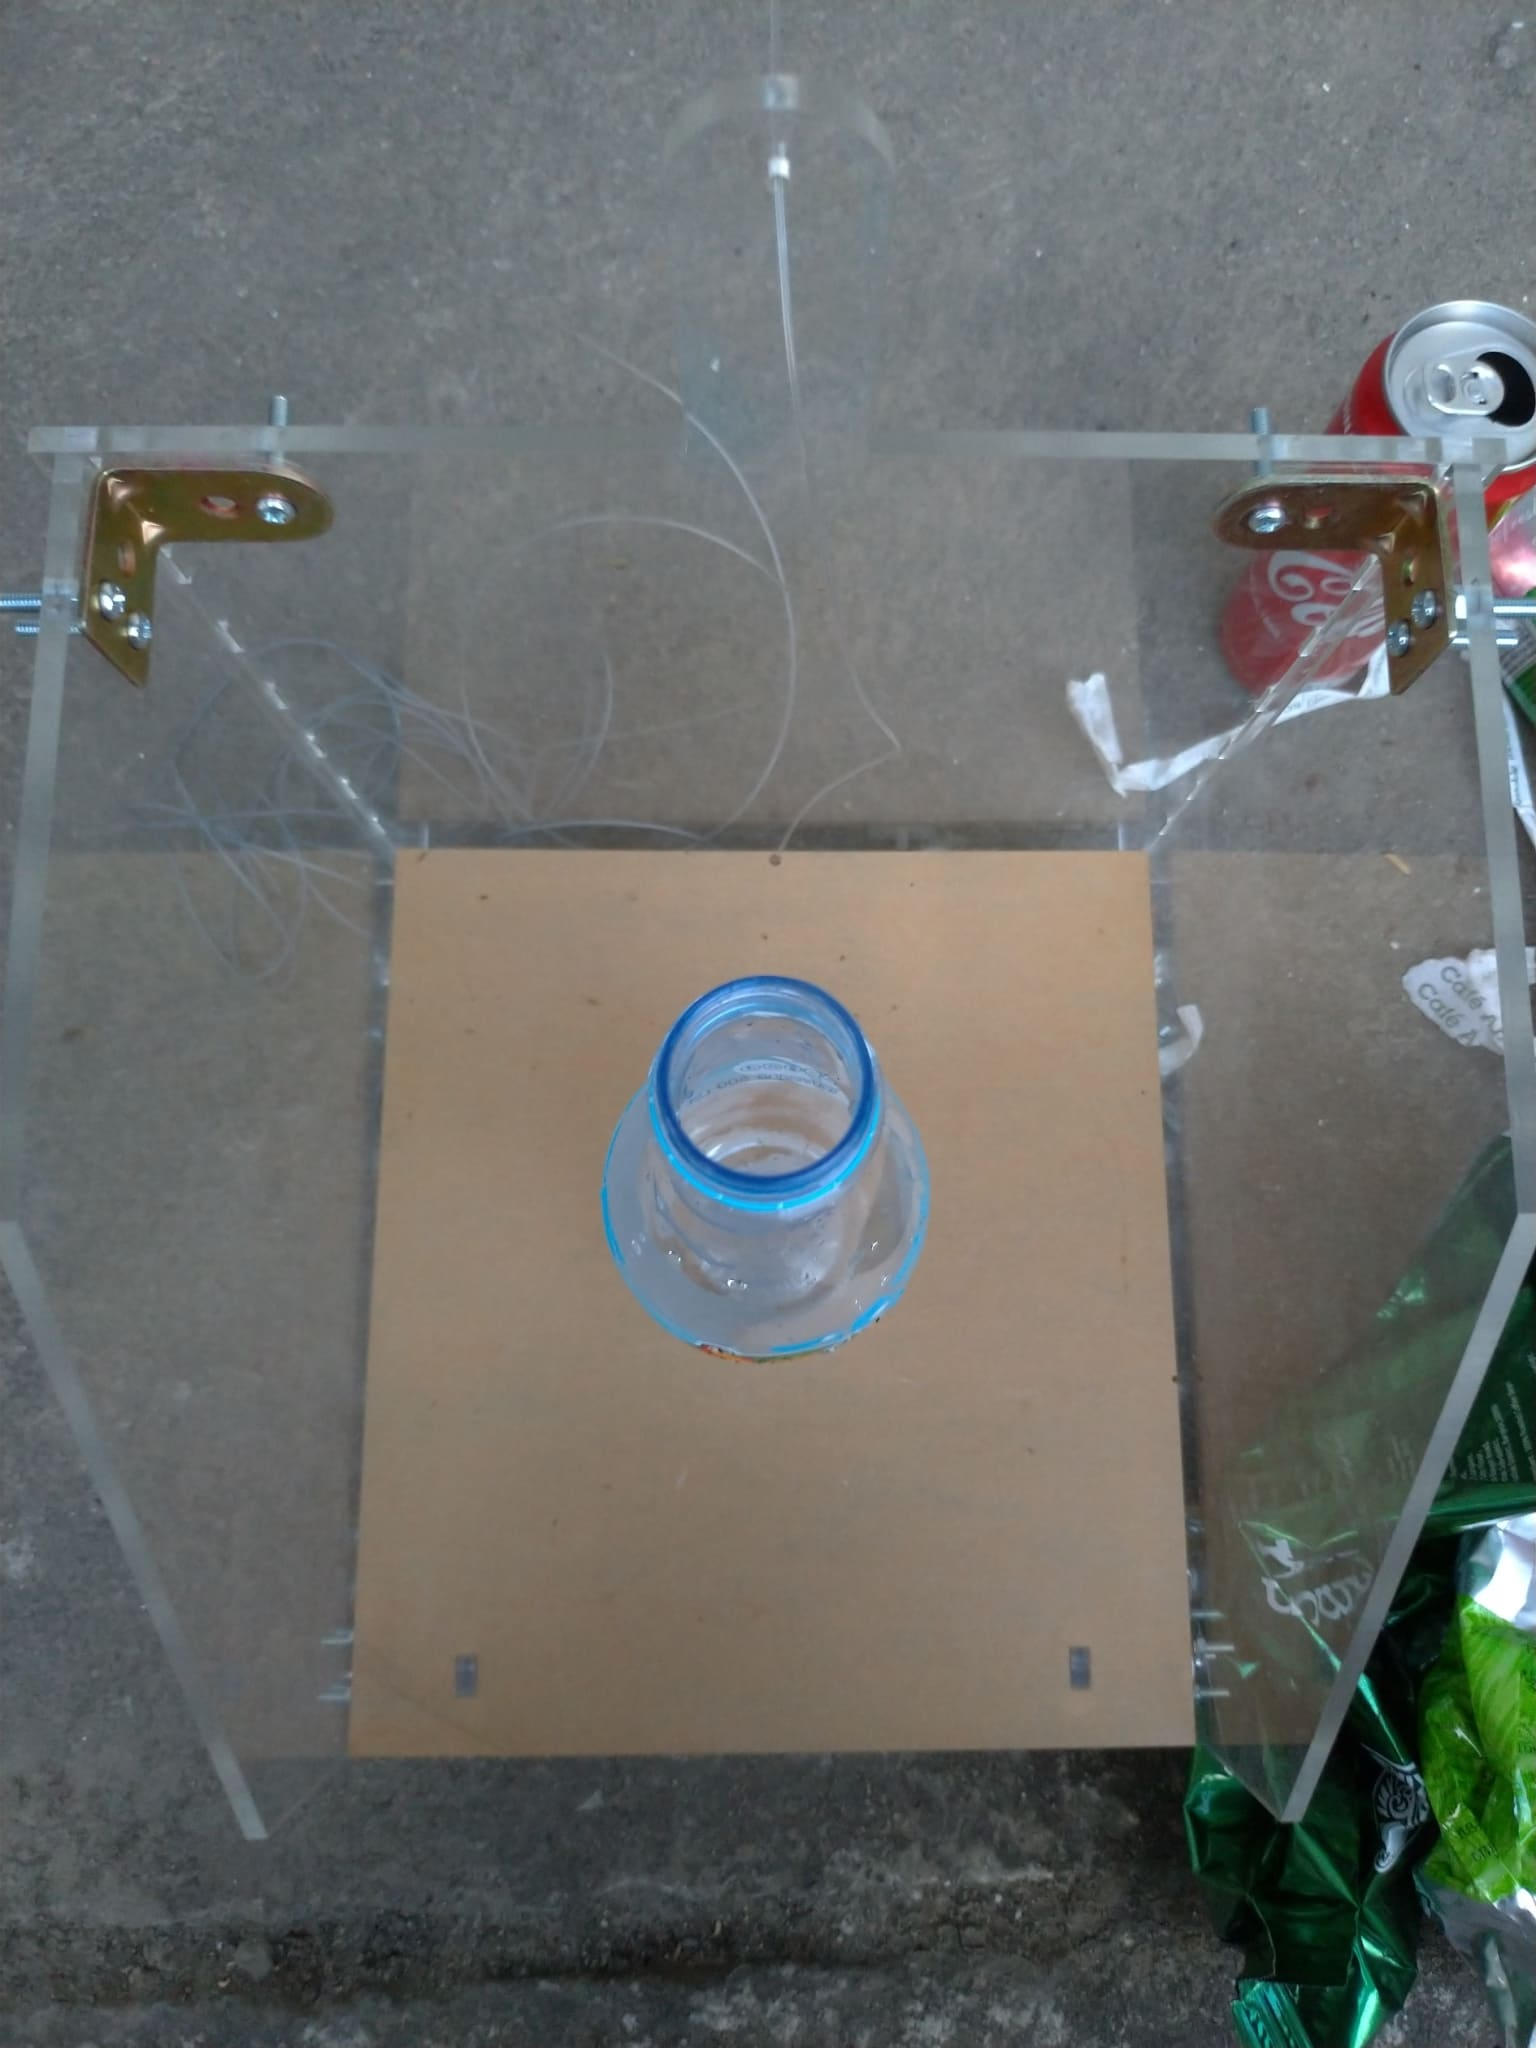AlCan: (1213, 295, 1536, 677)
Others: (1175, 1111, 1521, 2048), (1054, 651, 1417, 801), (1404, 661, 1536, 1072), (1421, 1488, 1536, 1930)
PlasticBottle: (591, 977, 947, 1367)
